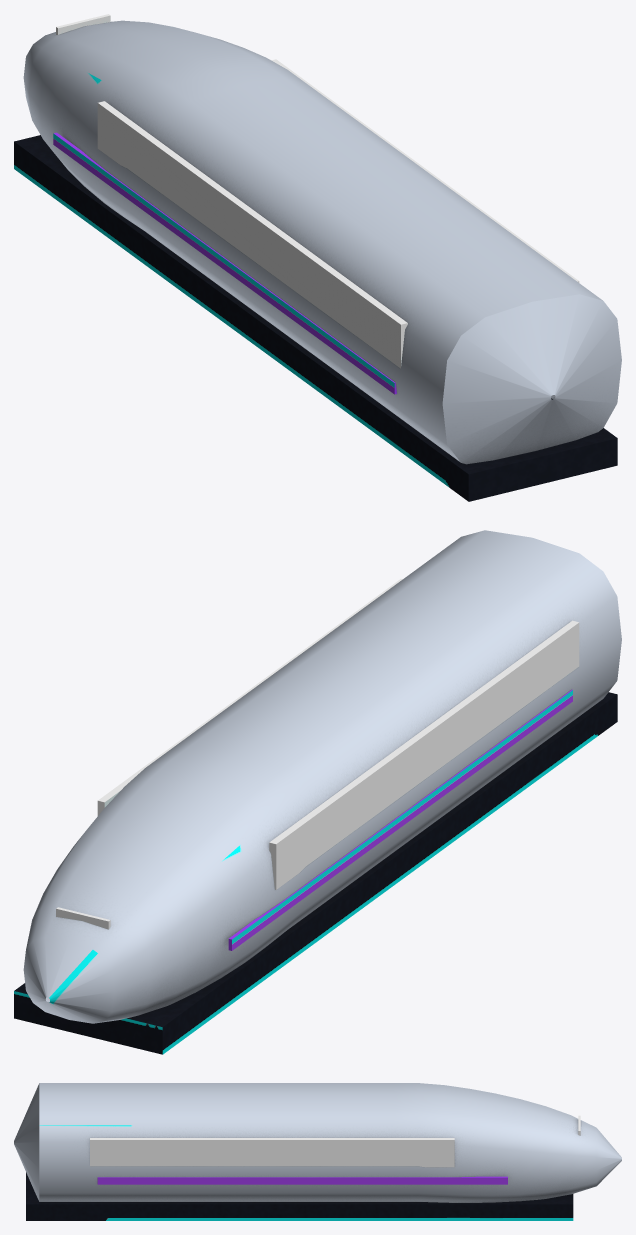
Rendered from maglev_car.fbx.
3 views of the same model, one above another, from view 1: azimuth 30°, elevation 25°; view 2: azimuth 150°, elevation 25°; view 3: azimuth 270°, elevation 25° (orthographic). The views are drawn at different scales.
Visible parts, largest first — view 1: maglev_car; view 2: maglev_car; view 3: maglev_car.
Part boxes in pixels (x1,y1,x2,y2): maglev_car: [14, 14, 621, 501]; maglev_car: [14, 530, 621, 1054]; maglev_car: [14, 1083, 621, 1220].
Bounding box in the file's own units: 410 × 387 × 2000.
Materials: 1 (1 with a texture image).
